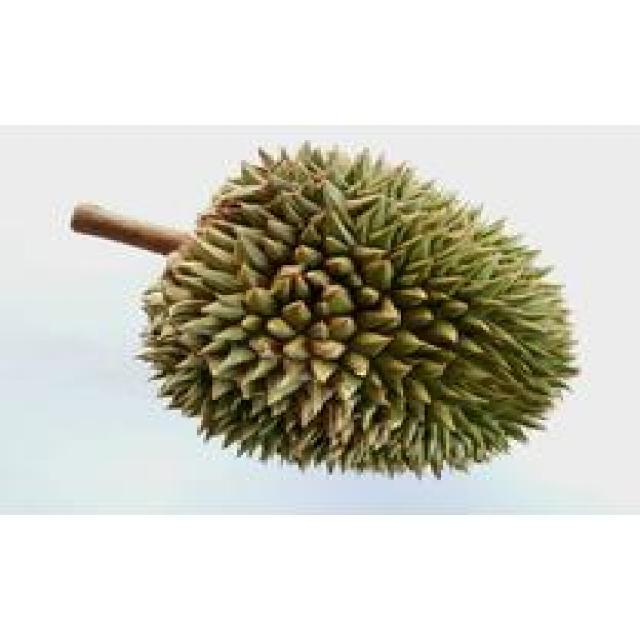fruit: (102, 120, 449, 510)
